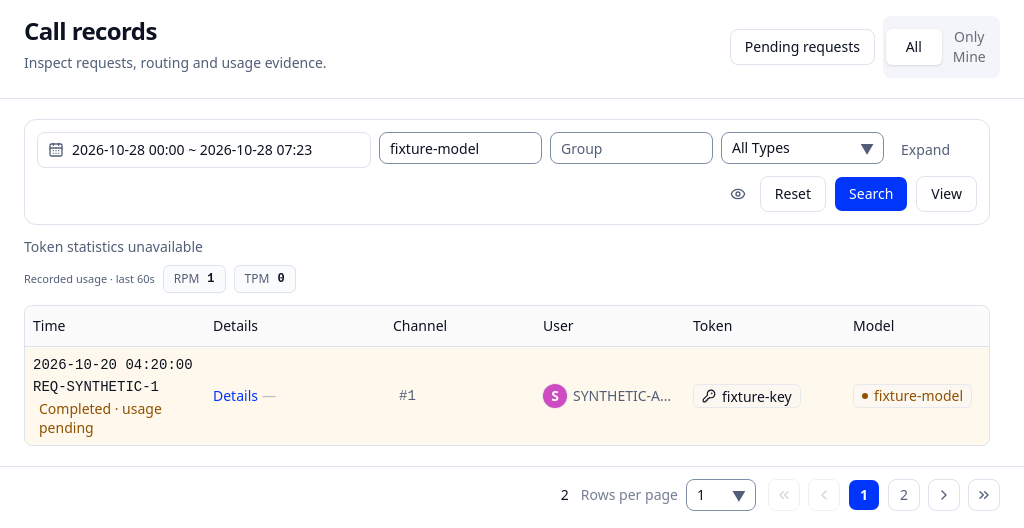
Test case: switching to self scope removes admin data while the self response is pending
Expected: the text "SYNTHETIC-ADMIN-ONLY" is shown, [573,386,673,406]
What coordinates should you click on to do the following:
click the tab "Only Mine"
I would click on:
 (969, 47)
Its box is [942,19,997,75].
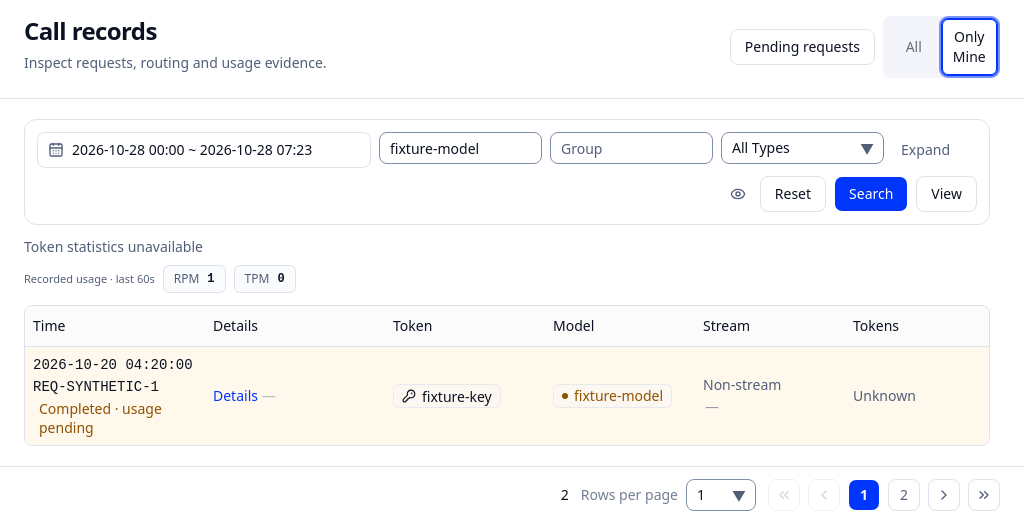
Expected: the text "REQ-SYNTHETIC-1" is shown, [33,379,159,395]
Now the button "SYNTHETIC-ADMIN-ONLY" is gone
